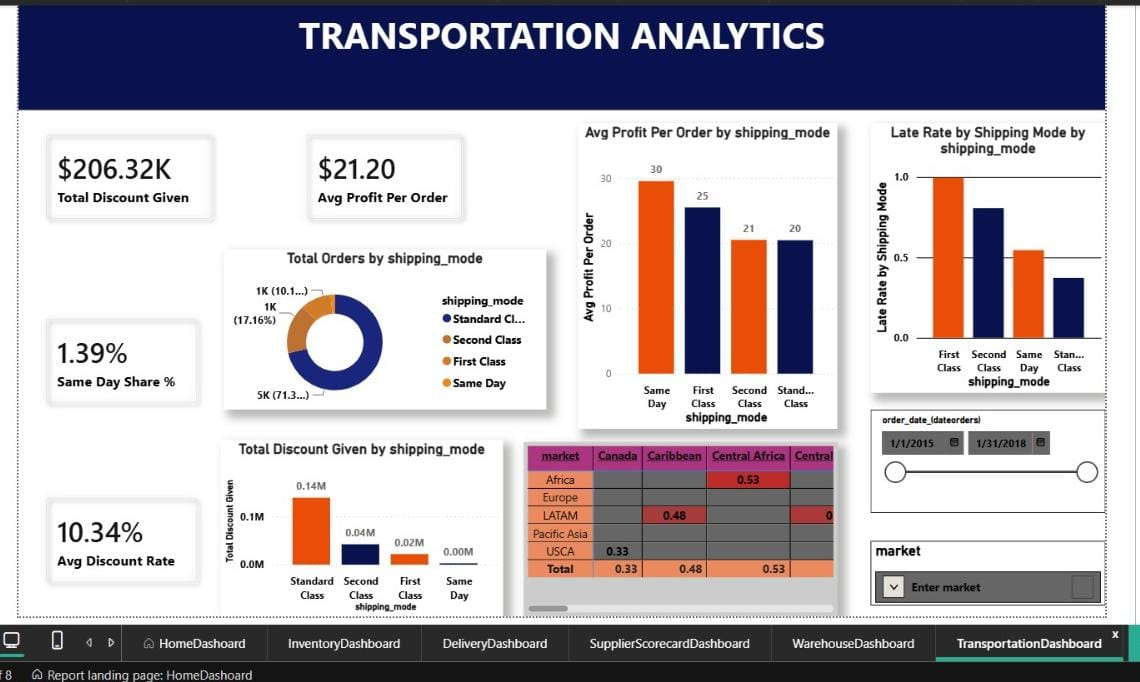

The dashboard page shown, as its layout file describes it:
{"tool":"powerbi","page":{"name":"Page 5","canvas":[1280,720],"ordinal":4},"visuals":[{"type":"cardVisual","fields":{"Data":["Fact_table.Avg Profit Per Order"]},"box":[310.8,123.3,241.6,158.8],"z":0},{"type":"cardVisual","fields":{"Data":["Fact_table.Avg Discount Rate"]},"box":[3.4,550.7,236.5,158.8],"z":1000},{"type":"cardVisual","fields":{"Data":["Fact_table.Same Day Share %"]},"box":[3.4,339.5,236.5,158.8],"z":2000},{"type":"cardVisual","fields":{"Data":["Fact_table.Total Discount Given"]},"box":[3.4,123.3,253.4,158.8],"z":3000},{"type":"columnChart","fields":{"Y":["Fact_table.Total Discount Given"],"Category":["Dim_Shipping.shipping_mode"]},"box":[238.2,511.8,332.8,207.8],"z":4000},{"type":"columnChart","fields":{"Y":["Fact_table.Avg Profit Per Order"],"Category":["Dim_Shipping.shipping_mode"]},"box":[658.8,138.5,305.7,359.8],"z":5000},{"type":"columnChart","fields":{"Y":["Fact_table.Late Rate by Shipping Mode"],"Category":["Fact_table.shipping_mode"]},"box":[1003.4,138.5,277,317.6],"z":6000},{"type":"donutChart","fields":{"Y":["Fact_table.Total Orders"],"Category":["Dim_Shipping.shipping_mode"]},"box":[241.6,287.2,380.1,189.2],"z":7000},{"type":"pivotTable","fields":{"Rows":["Dim_location.market"],"Columns":["Dim_location.order_region"],"Values":["Fact_table.Late Delivery %"]},"box":[594.6,513.5,369.9,206.1],"z":8000},{"type":"textSlicer","fields":{"Values":["Dim_location.market"]},"box":[1003.4,630.1,277,76],"z":9000},{"type":"slicer","fields":{"Values":["Fact_table.order_date_(dateorders)"]},"box":[1003.4,476.4,277,121.6],"z":10000},{"type":"textbox","box":[0,0,1280.4,123.3],"z":11000}]}

Visuals, with their boxes on the page's 1280x720 design canvas (x1, y1, x2, y2). These are canvas units, not pixel positions in the 1140x682 screenshot, which may show the page scaled, cropped or inside an application window:
cardVisual - Fact_table.Avg Profit Per Order: bbox=[311, 123, 552, 282]
cardVisual - Fact_table.Avg Discount Rate: bbox=[3, 551, 240, 710]
cardVisual - Fact_table.Same Day Share %: bbox=[3, 340, 240, 498]
cardVisual - Fact_table.Total Discount Given: bbox=[3, 123, 257, 282]
columnChart - Fact_table.Total Discount Given x Dim_Shipping.shipping_mode: bbox=[238, 512, 571, 720]
columnChart - Fact_table.Avg Profit Per Order x Dim_Shipping.shipping_mode: bbox=[659, 138, 964, 498]
columnChart - Fact_table.Late Rate by Shipping Mode x Fact_table.shipping_mode: bbox=[1003, 138, 1280, 456]
donutChart - Fact_table.Total Orders x Dim_Shipping.shipping_mode: bbox=[242, 287, 622, 476]
pivotTable - Dim_location.market x Dim_location.order_region: bbox=[595, 514, 964, 720]
textSlicer - Dim_location.market: bbox=[1003, 630, 1280, 706]
slicer - Fact_table.order_date_(dateorders): bbox=[1003, 476, 1280, 598]
textbox: bbox=[0, 0, 1280, 123]
